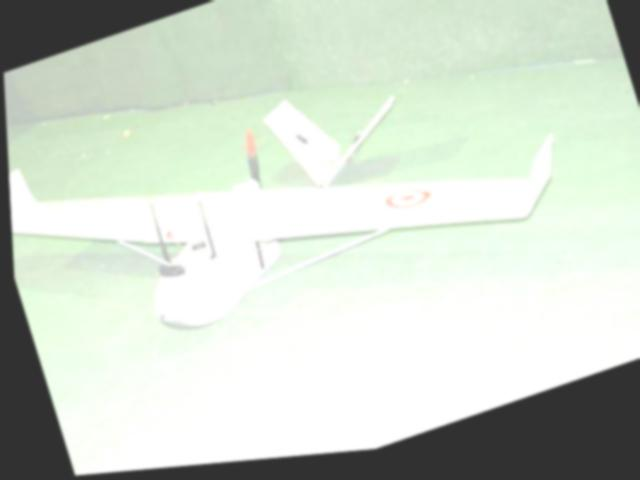iha: (1, 0, 600, 399)
